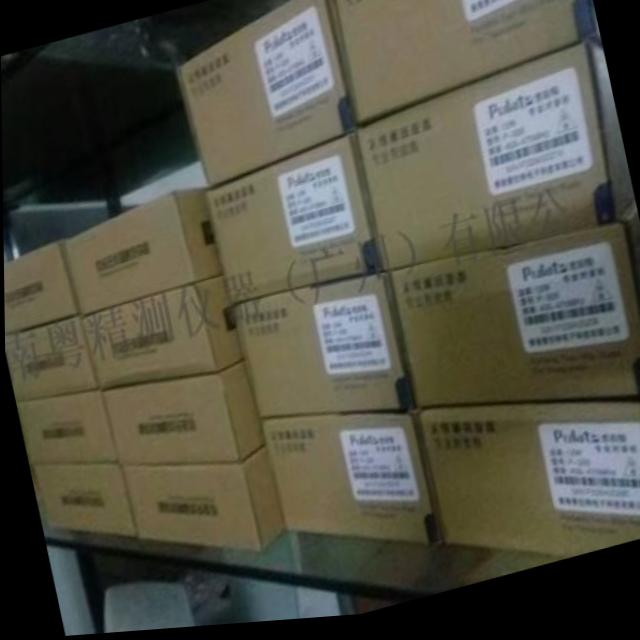box: (355, 47, 634, 279), (388, 215, 640, 416), (335, 0, 602, 134), (174, 0, 354, 191), (420, 411, 640, 565), (202, 138, 382, 309), (229, 279, 418, 420), (258, 418, 443, 551), (63, 192, 221, 315), (80, 280, 242, 389), (119, 448, 284, 555), (99, 363, 263, 466), (4, 316, 100, 404), (31, 466, 135, 542), (17, 390, 117, 466), (3, 241, 79, 333)
